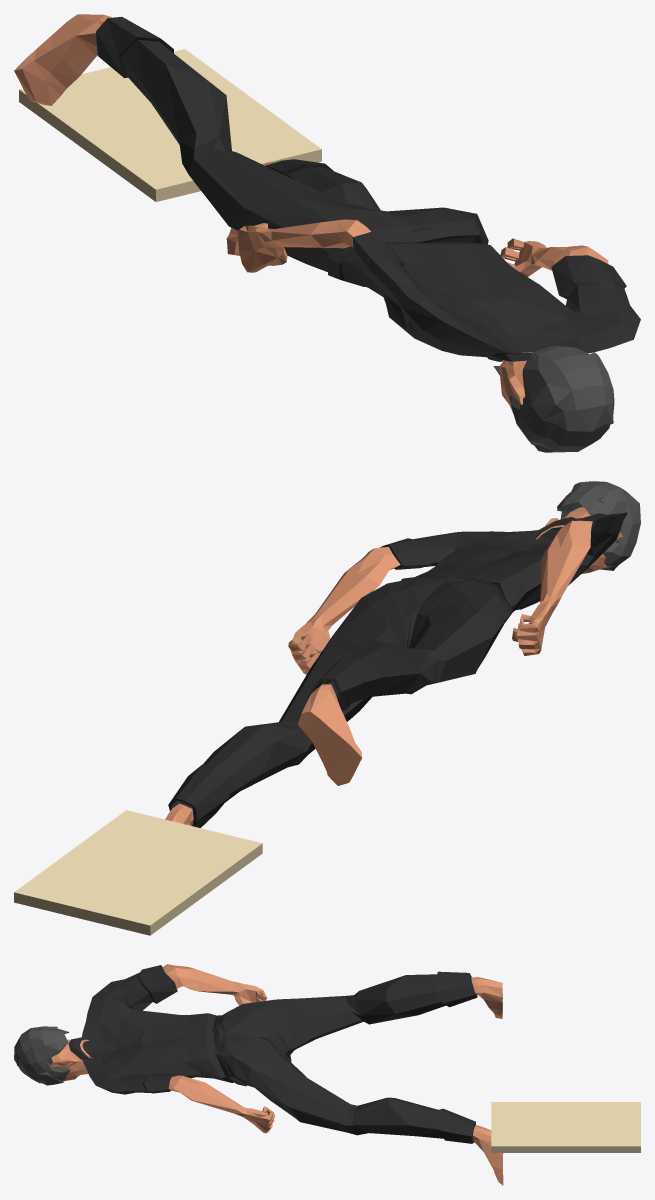
The picture shows the model from 3 angles, top to bottom: view 1: azimuth 30°, elevation 25°; view 2: azimuth 150°, elevation 25°; view 3: azimuth 270°, elevation 25°; orthographic projection. The views are drawn at different scales.
Visible parts, largest first — view 1: c3b148dce88246dcb8fb5797063a6e88d22d9b07849bdf6ce3b985f31036; view 2: c3b148dce88246dcb8fb5797063a6e88d22d9b07849bdf6ce3b985f31036; view 3: c3b148dce88246dcb8fb5797063a6e88d22d9b07849bdf6ce3b985f31036.
Boxes of the visible parts, x1,y1,x2,y2 form: c3b148dce88246dcb8fb5797063a6e88d22d9b07849bdf6ce3b985f31036: [14, 14, 640, 452]; c3b148dce88246dcb8fb5797063a6e88d22d9b07849bdf6ce3b985f31036: [14, 481, 640, 935]; c3b148dce88246dcb8fb5797063a6e88d22d9b07849bdf6ce3b985f31036: [14, 964, 640, 1185].
Bounding box in the file's own units: 0.6426 × 0.612 × 2.09.
1 material, 1 textured.
